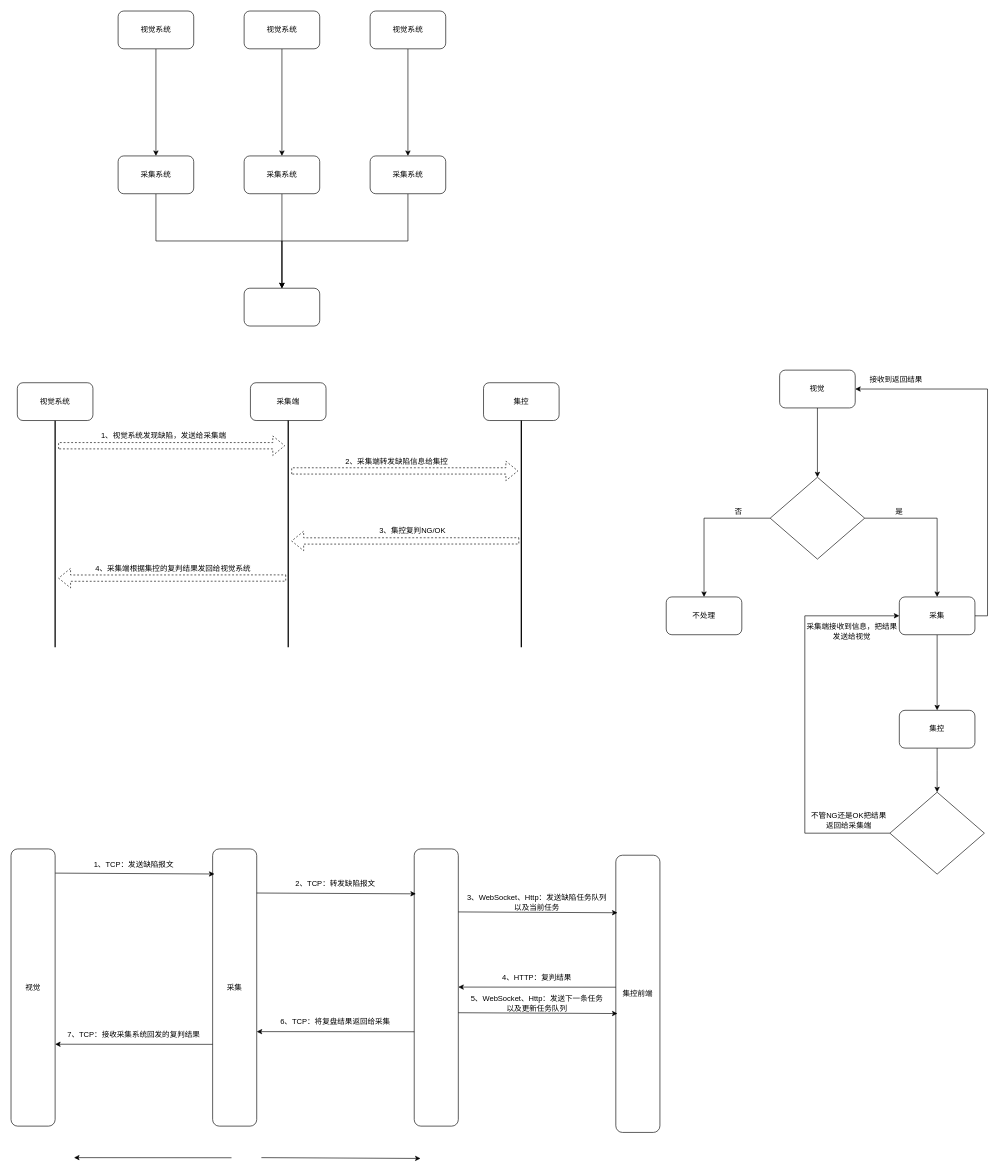
Some shapes in this 1004 by 1175 pixel diagram are drawn without their labels. Here are the shapes that lost their labels. From the top down, the centre of each, then its label:
[281,307]: 集控系统
[817,518]: 是否缺陷
[936,833]: 复判结果
[436,987]: 集控后端
